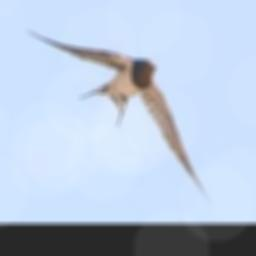Swallow: (26, 30, 212, 204)
